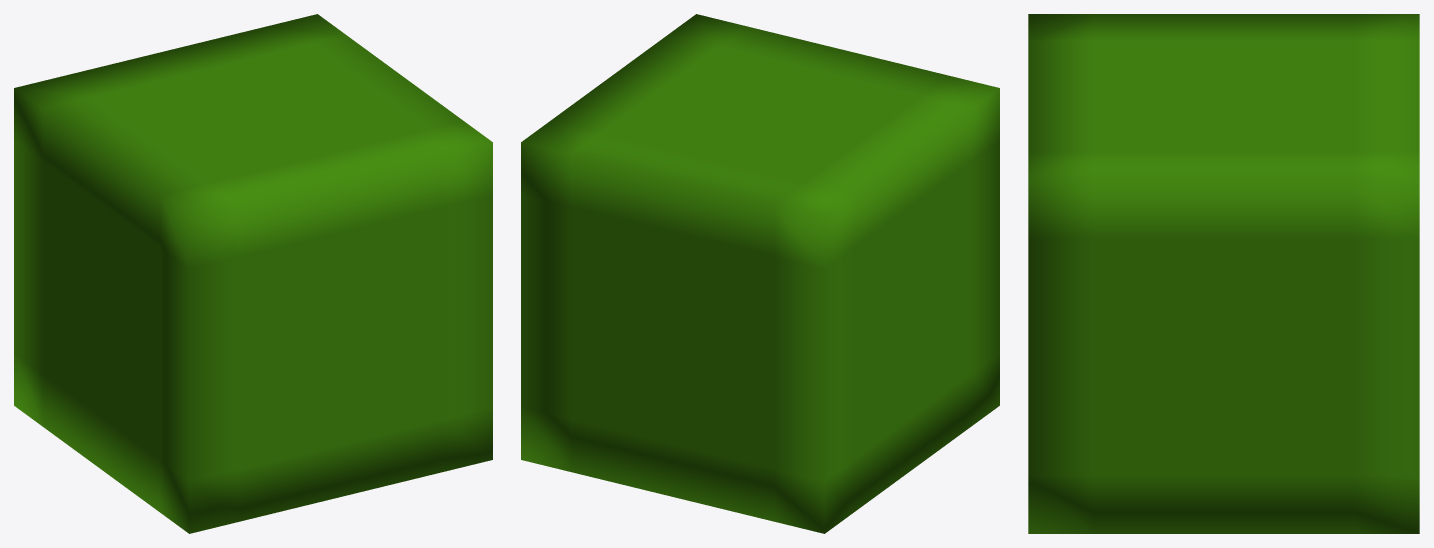
The model's file is square.obj.
3 renders of one model, left to right at view 1: azimuth 30°, elevation 25°; view 2: azimuth 150°, elevation 25°; view 3: azimuth 270°, elevation 25°, orthographic. The views are drawn at different scales.
Parts seen in each view (by area): view 1: Box001; view 2: Box001; view 3: Box001.
Part boxes in pixels (left/top/right/bottom): Box001: left=14, top=14, right=492, bottom=533; Box001: left=521, top=14, right=999, bottom=533; Box001: left=1028, top=14, right=1419, bottom=533.
Bounding box in the file's own units: 1 × 1 × 1.
